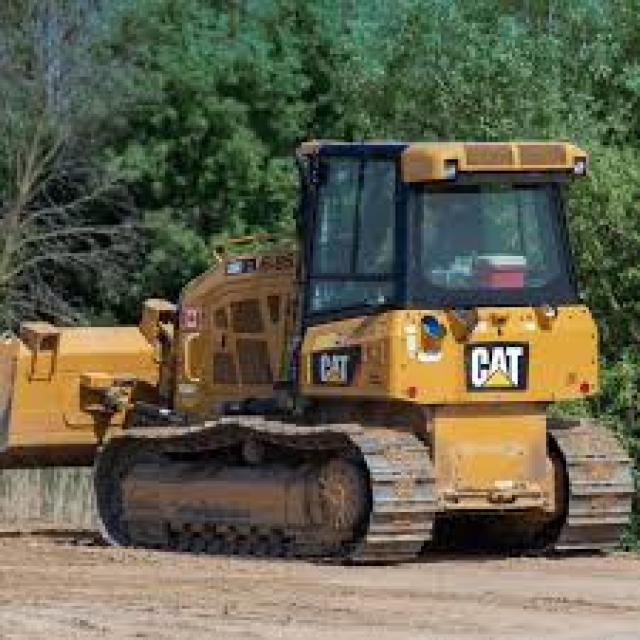machinery: (1, 130, 632, 562)
